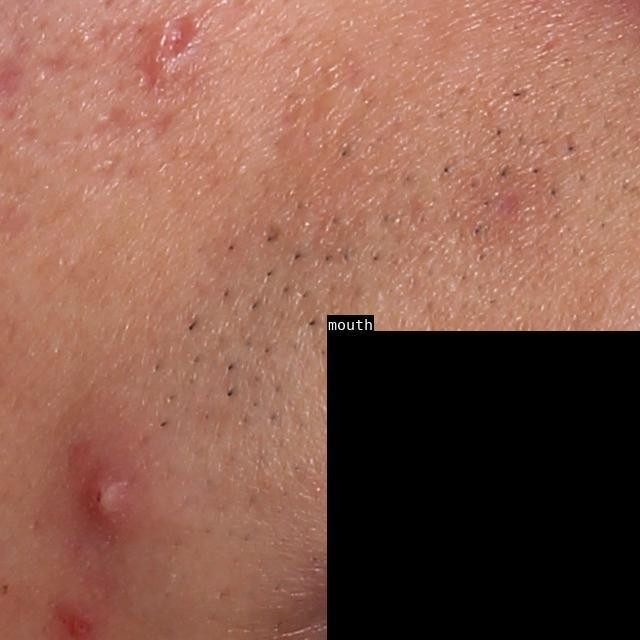atrophic_scar: (161, 5, 204, 64), (91, 98, 142, 143), (139, 103, 183, 141)
pustule: (74, 462, 143, 545)
